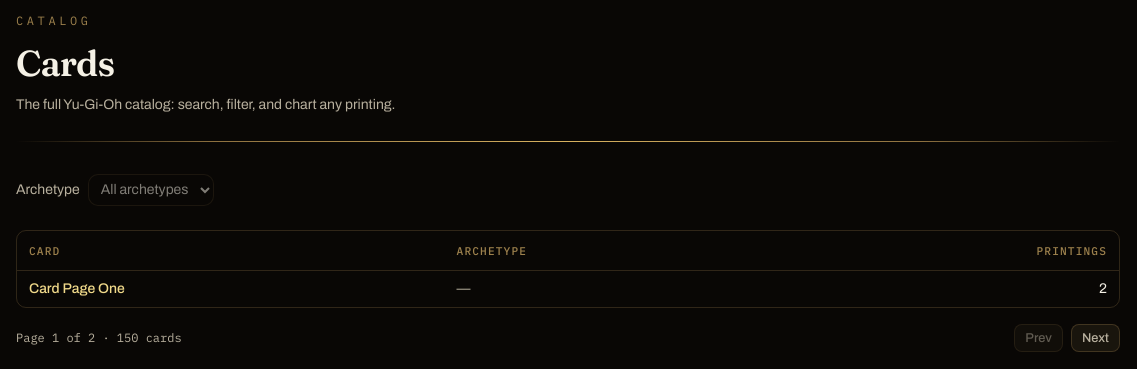
Test: CardsPage › pages forward, requesting the next page and flipping boundary states
This screenshot has width=1137, height=369.
Check: the link "Card Page One" is shown, box [29,281,125,296]
Check: the text "Page 1 of 2 · 150 cards" is shown, box [16,330,182,346]
What coordinates should you click on to do the following:
click the button "Next"
I would click on:
 (1095, 338)
Its box is [1071,324,1120,352].
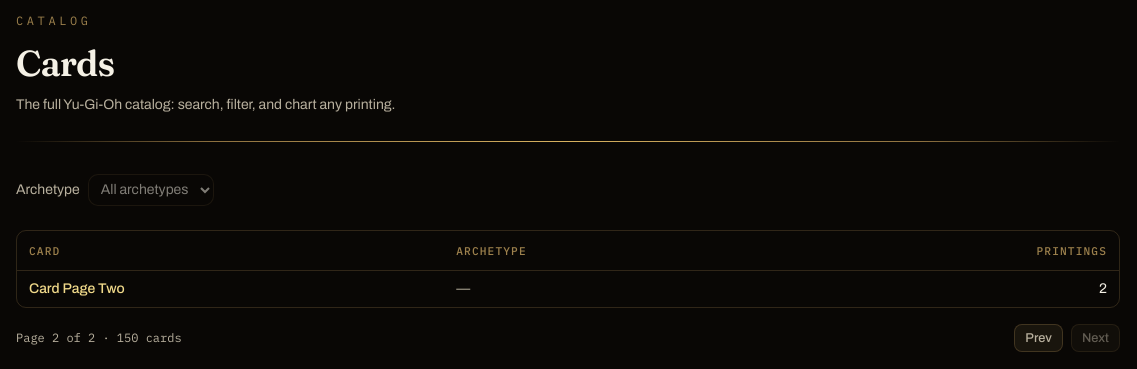
Check: the link "Card Page Two" is shown, box [29,281,125,296]
Check: the button "Next" is disabled, box [1071,324,1120,352]
Check: the button "Prev" is enabled, box [1014,324,1063,352]
